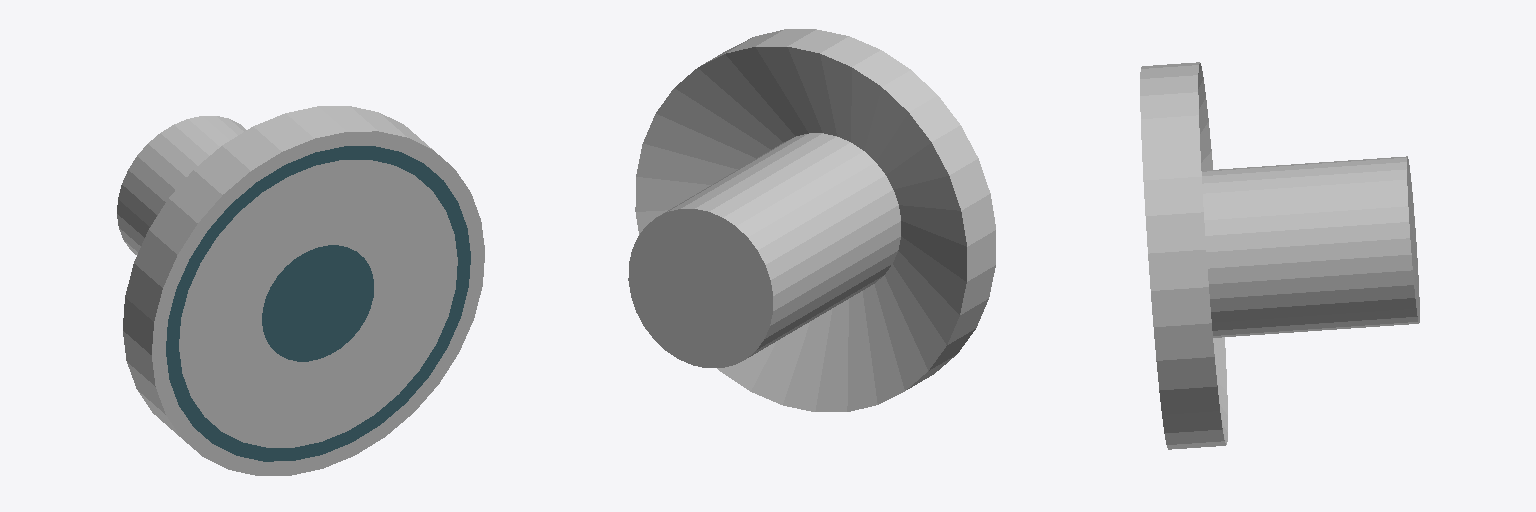
Rendered from circle_bumper.obj.
3 renders of one model, left to right at view 1: azimuth 30°, elevation 25°; view 2: azimuth 150°, elevation 25°; view 3: azimuth 270°, elevation 25°, orthographic.
Size of the model in its own units: 4.57 by 4.61 by 3.33.